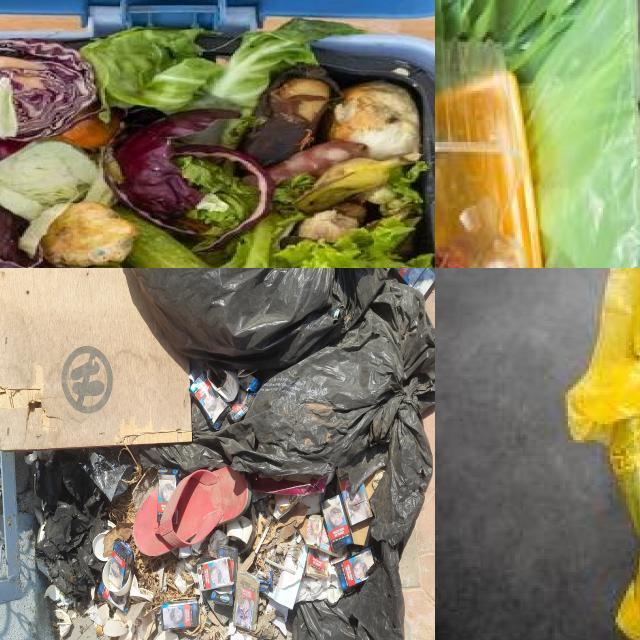Cig_pack: (321, 494, 353, 553)
Garbage: (34, 268, 435, 640), (0, 27, 435, 268), (435, 12, 560, 268)
Plastic: (435, 41, 542, 268)
Plastic_Bag: (130, 268, 387, 370)
contaminated_waste: (435, 41, 542, 268)
top_view_waste: (435, 0, 640, 268)
